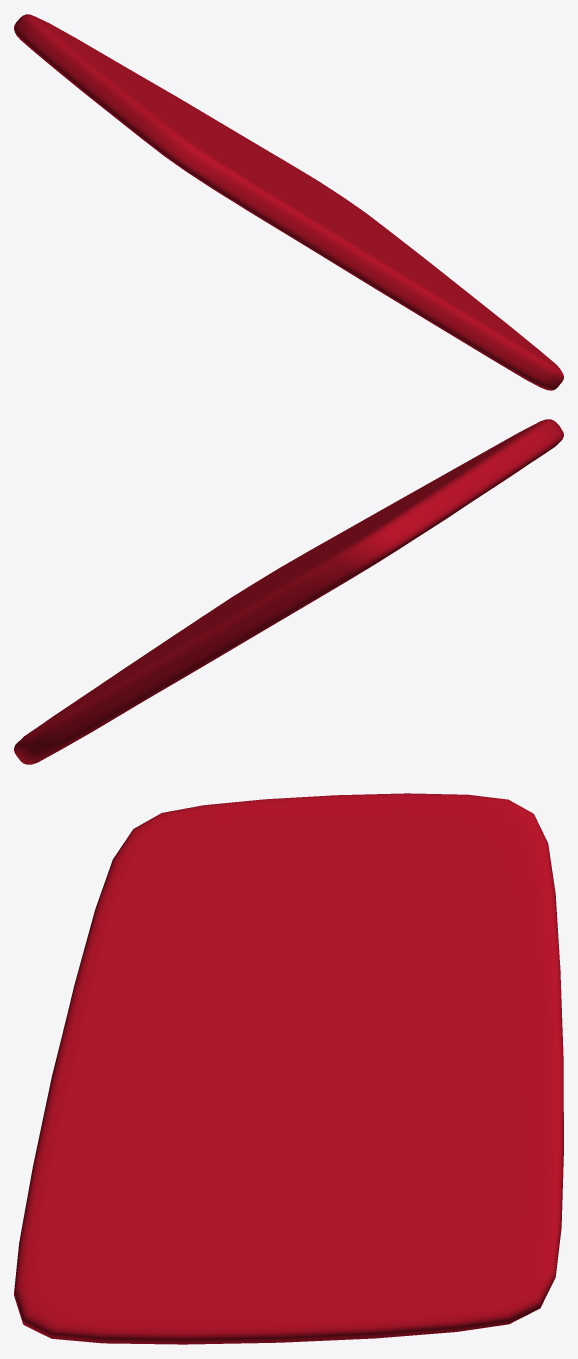
The model's file is unsorted_09.glb.
3 renders of one model, top to bottom at view 1: azimuth 30°, elevation 25°; view 2: azimuth 150°, elevation 25°; view 3: azimuth 270°, elevation 25°, orthographic. The views are drawn at different scales.
Visible parts, largest first — view 1: redglass_25; view 2: redglass_25; view 3: redglass_25.
Boxes of the visible parts, bbox=[...] form: redglass_25: bbox=[14, 14, 563, 390]; redglass_25: bbox=[14, 419, 563, 764]; redglass_25: bbox=[14, 793, 563, 1344].
Bounding box in the file's own units: 0.0345 × 0.028 × 0.0389.
